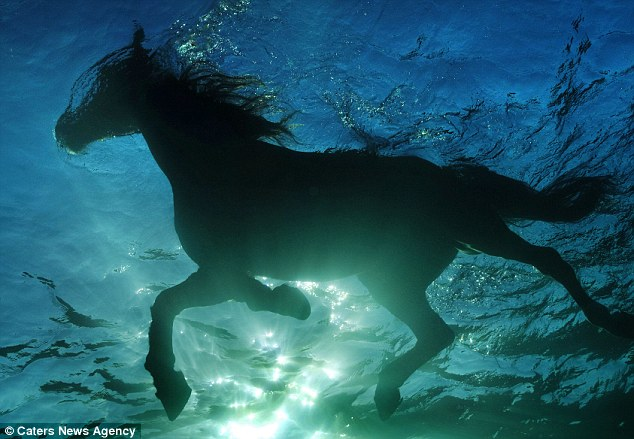Horse: (36, 22, 614, 417)
